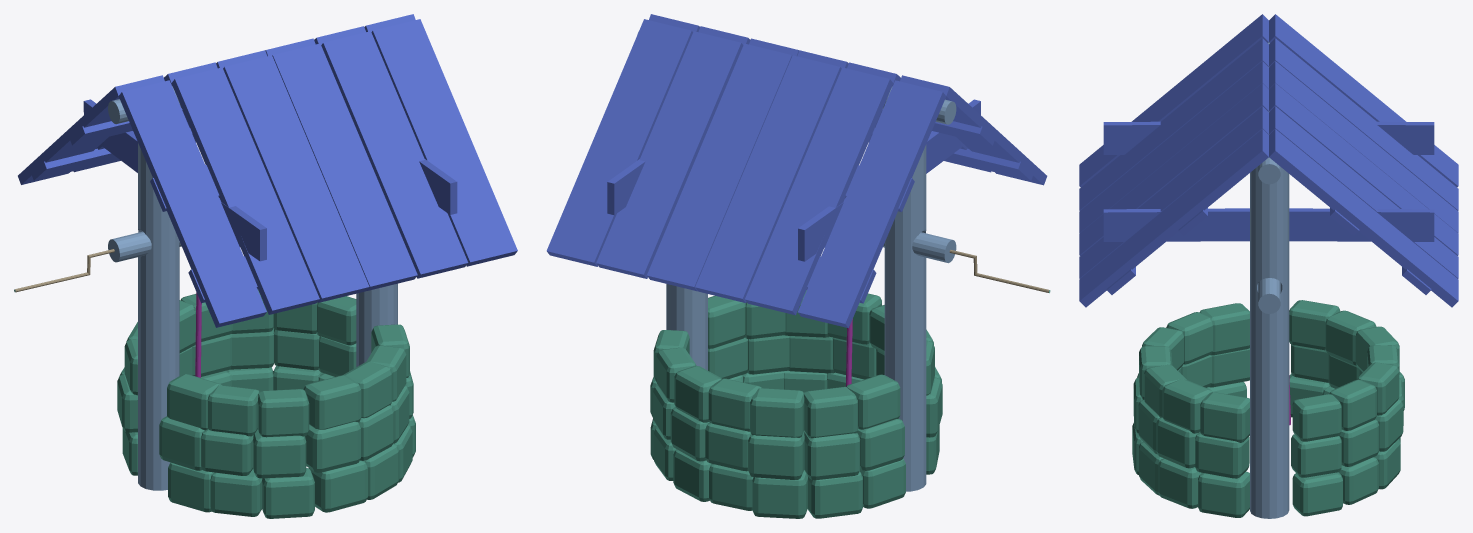
3 views of the same model, side by side, from view 1: azimuth 30°, elevation 25°; view 2: azimuth 150°, elevation 25°; view 3: azimuth 270°, elevation 25° (orthographic). The views are drawn at different scales.
Visible parts, largest first — view 1: world; view 2: world; view 3: world.
Part boxes in pixels (<box>): world: <box>14,14,517,518</box>; world: <box>546,14,1050,518</box>; world: <box>1079,14,1458,518</box>.
Bounding box in the file's own units: 1 × 0.9574 × 0.8589.
